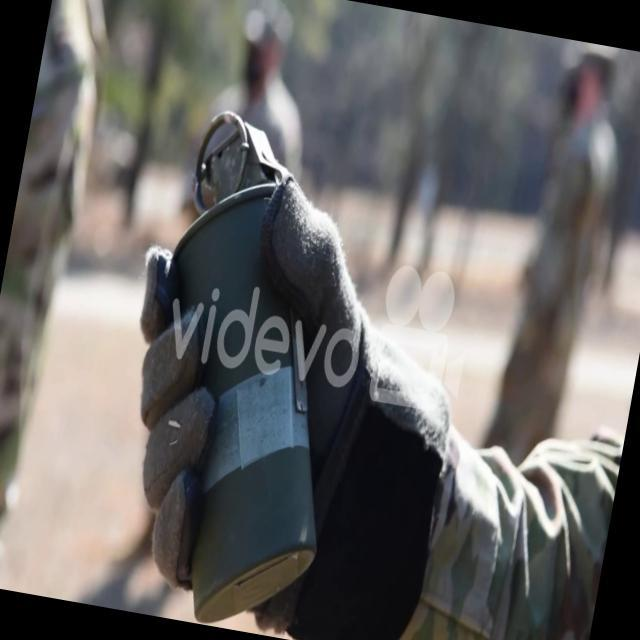grenade: (101, 100, 388, 637)
